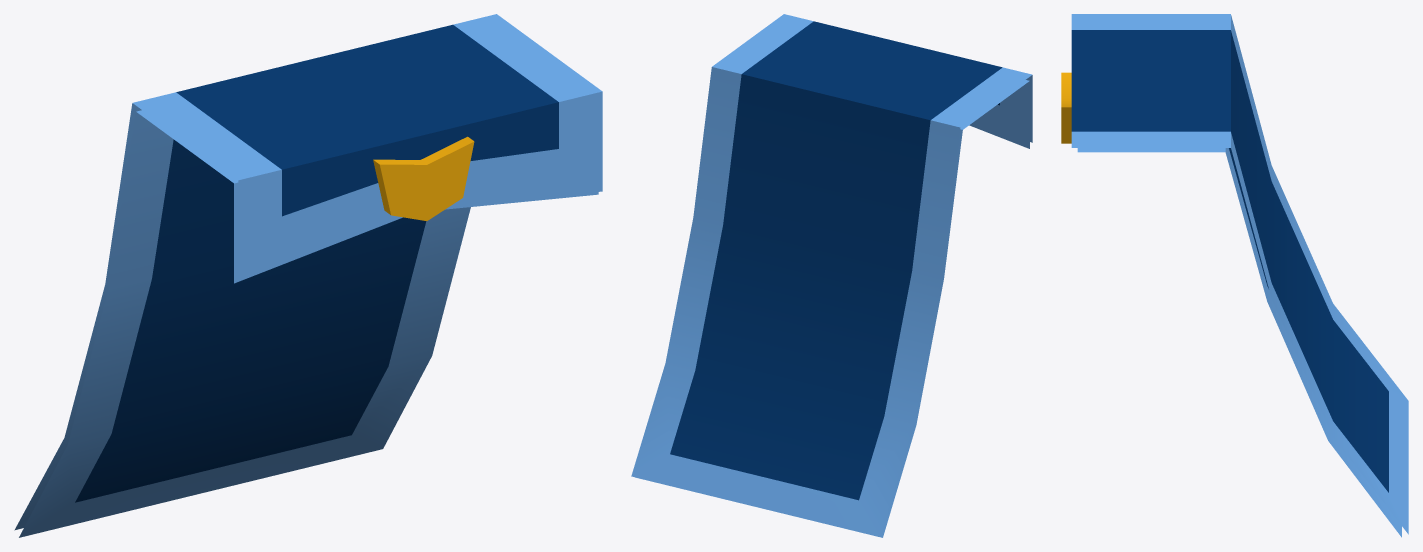
File: Cape 01.FBX
The picture shows the model from 3 angles, left to right: view 1: azimuth 30°, elevation 25°; view 2: azimuth 150°, elevation 25°; view 3: azimuth 270°, elevation 25°; orthographic projection. The views are drawn at different scales.
Parts seen in each view (by area): view 1: Cape 01; view 2: Cape 01; view 3: Cape 01.
Boxes of the visible parts, <box> form: Cape 01: <box>14,14,602,537</box>; Cape 01: <box>631,14,1032,537</box>; Cape 01: <box>1061,14,1408,537</box>.
Size of the model in its own units: 52.34 by 71.13 by 57.35.
